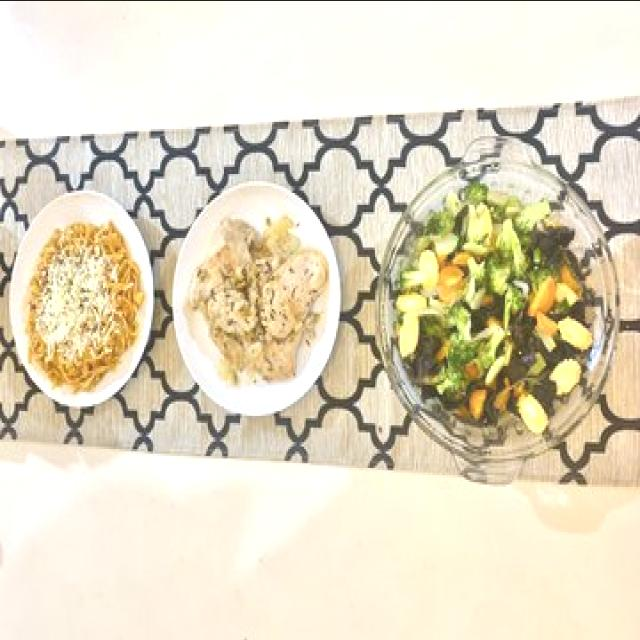capcay: (382, 164, 612, 455)
